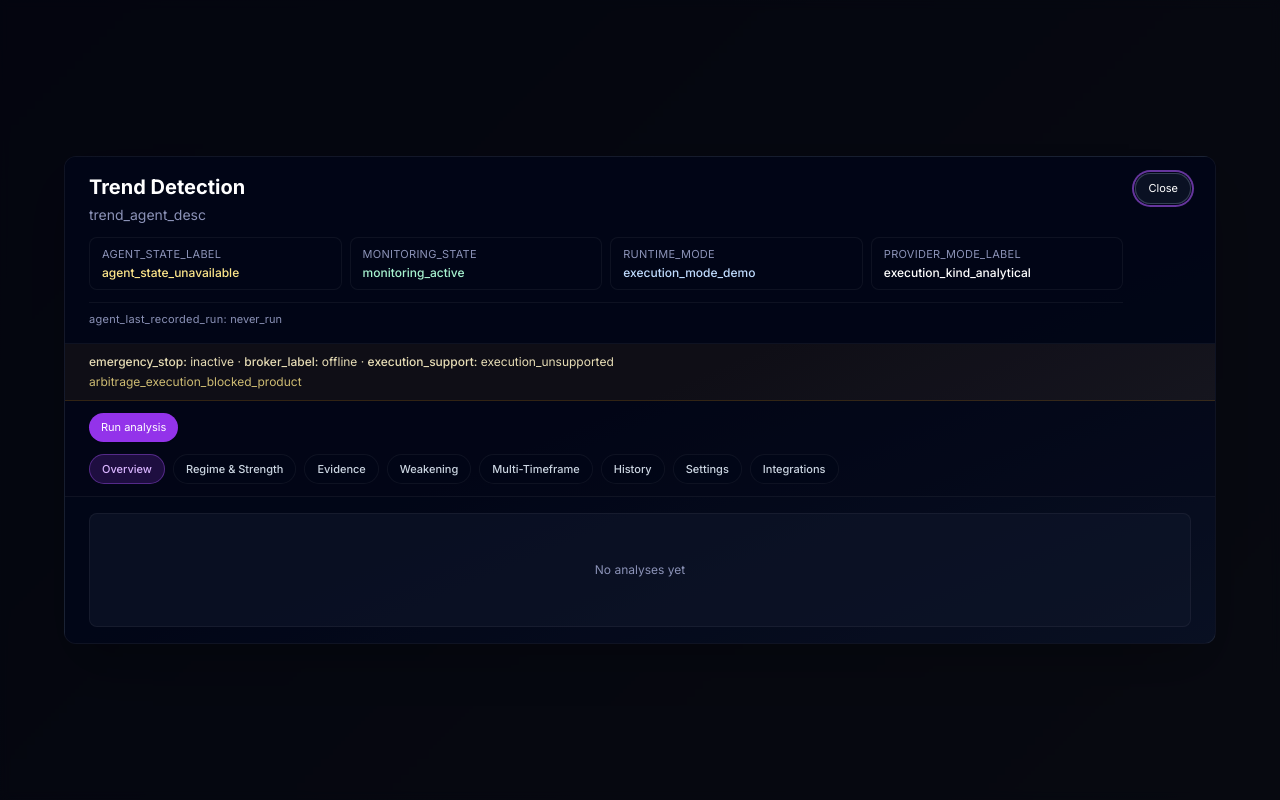
Test case: TrendWorkspace › opens confirmation without native dialog when run is clicked
The width and height of the screenshot is (1280, 800).
What coordinates should you click on to do the following:
click the button with test id "trend-run-analytical-analysis"
I would click on:
 (134, 427)
Its box is [89,413,178,442].
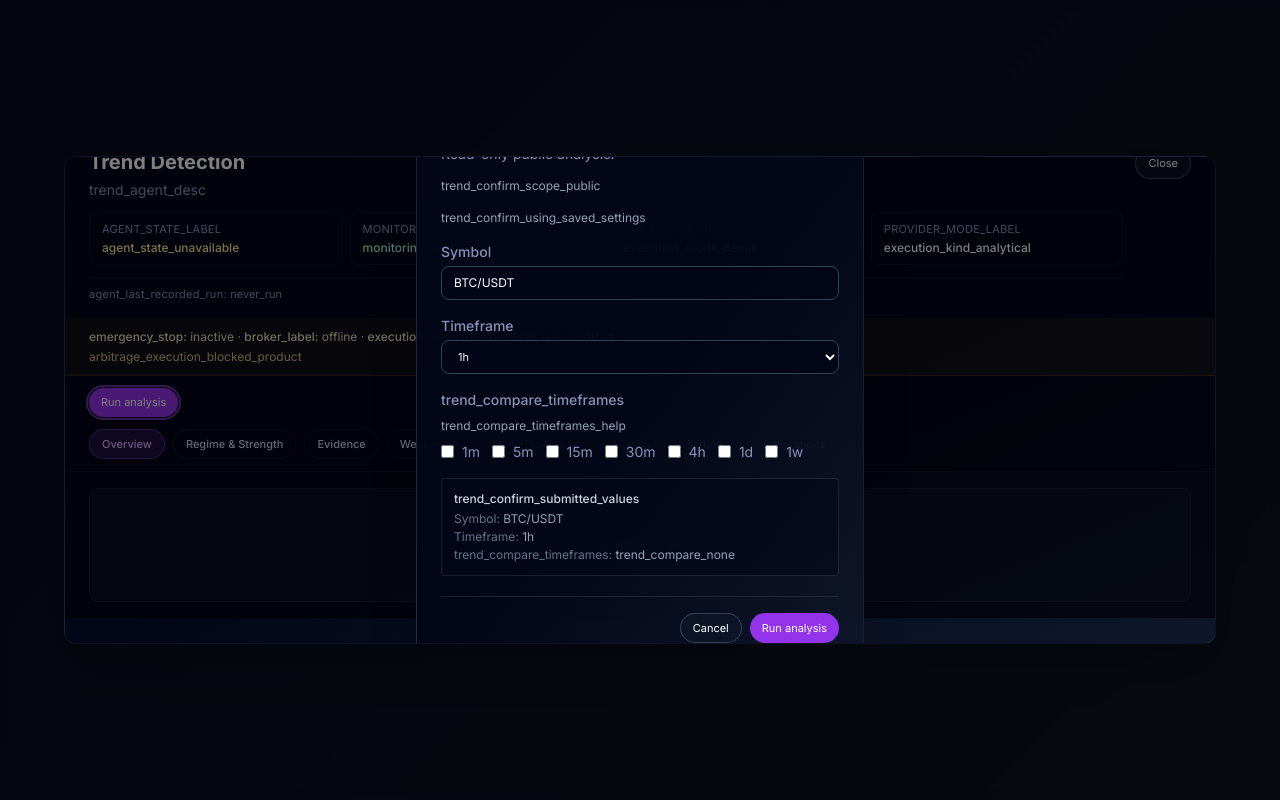
Result: the button with test id "trend-analyze-confirm-run" is shown at [750,613,839,643]
Result: the button with test id "trend-analyze-confirm-cancel" is shown at [680,613,742,643]
Result: the dropdown with test id "trend-analyze-timeframe" is shown at [441,340,839,374]
